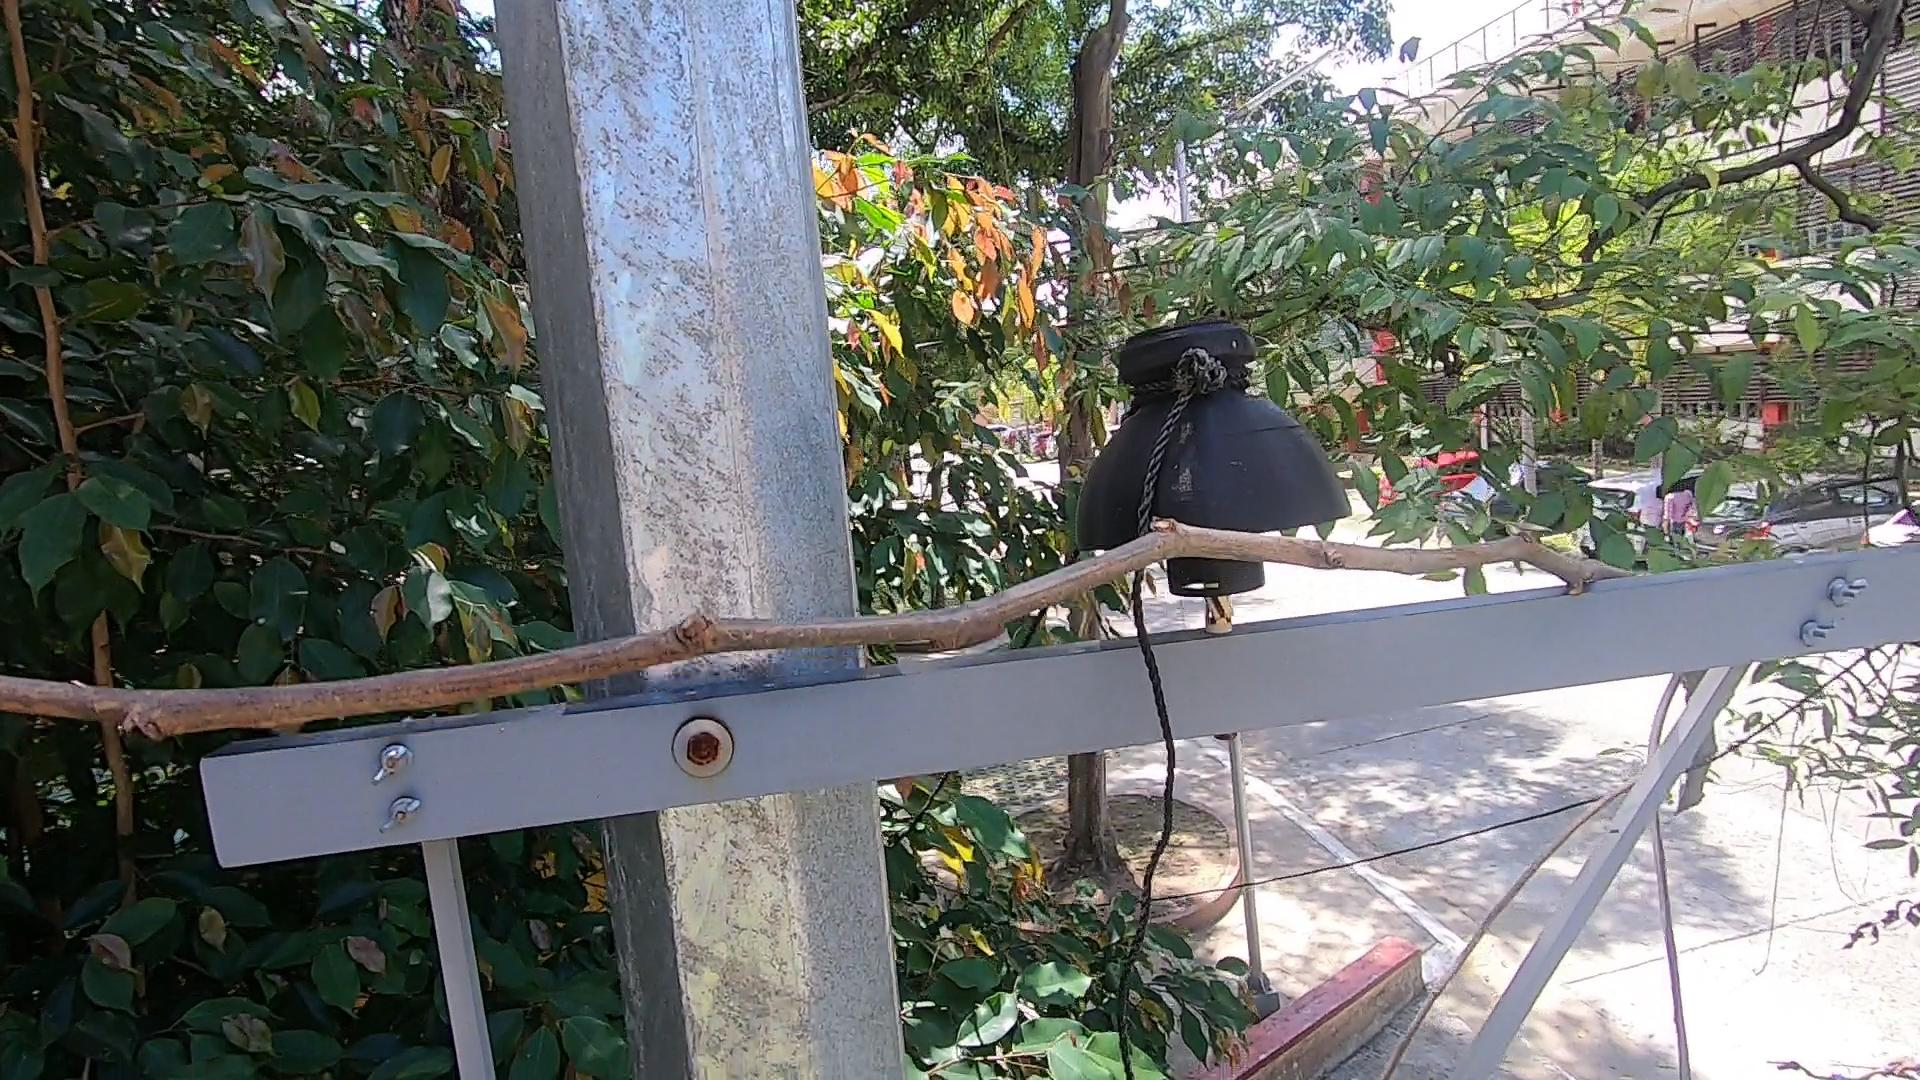tree branch: (11, 473, 1681, 799)
